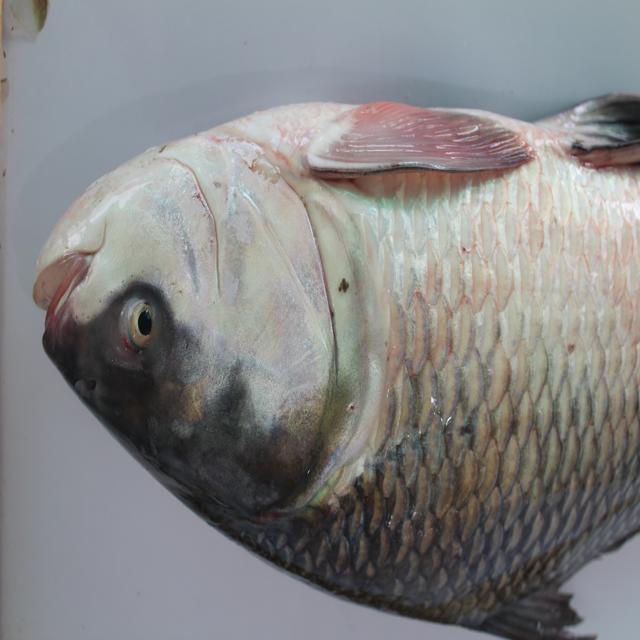Catla: (24, 82, 640, 640)
